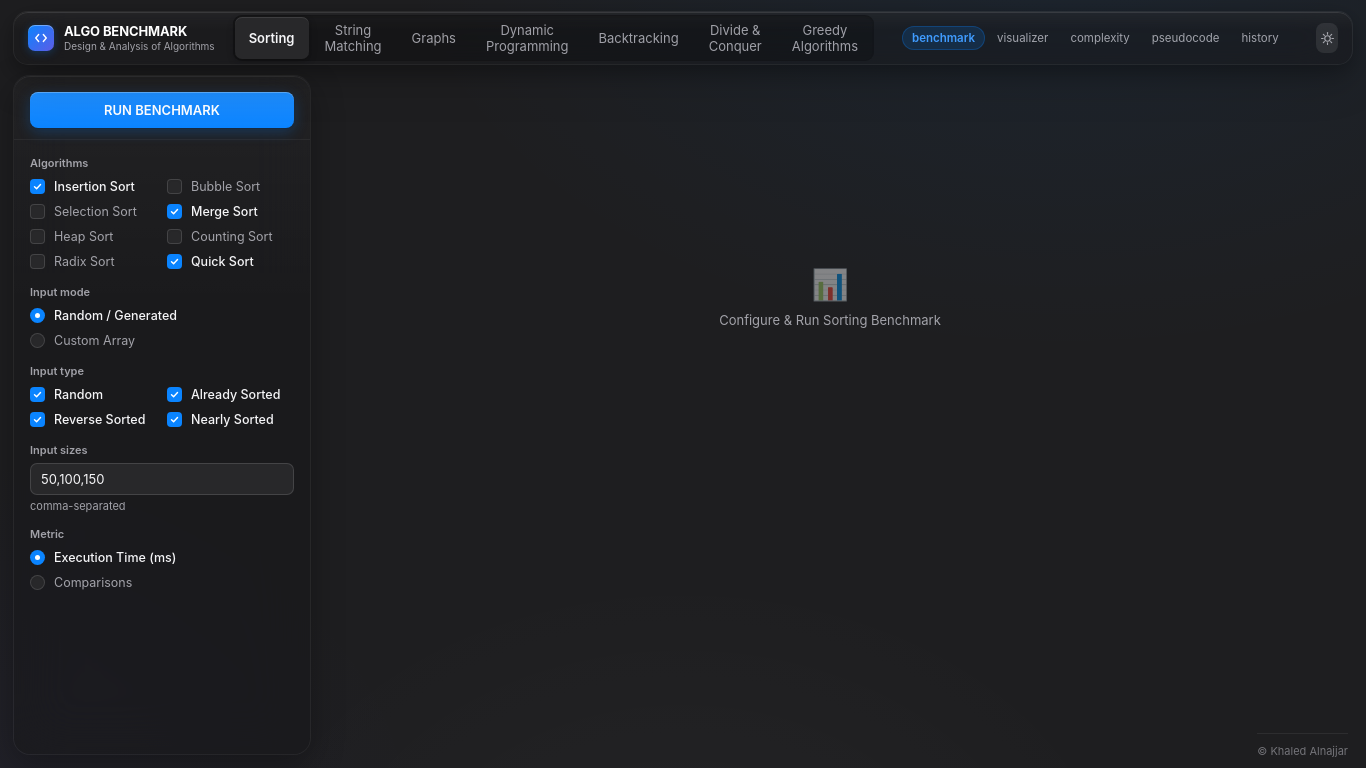
Scenario: Algo App › runs a sorting benchmark and shows results
Click the button "RUN BENCHMARK" at (162, 110), box [30,92,294,128]
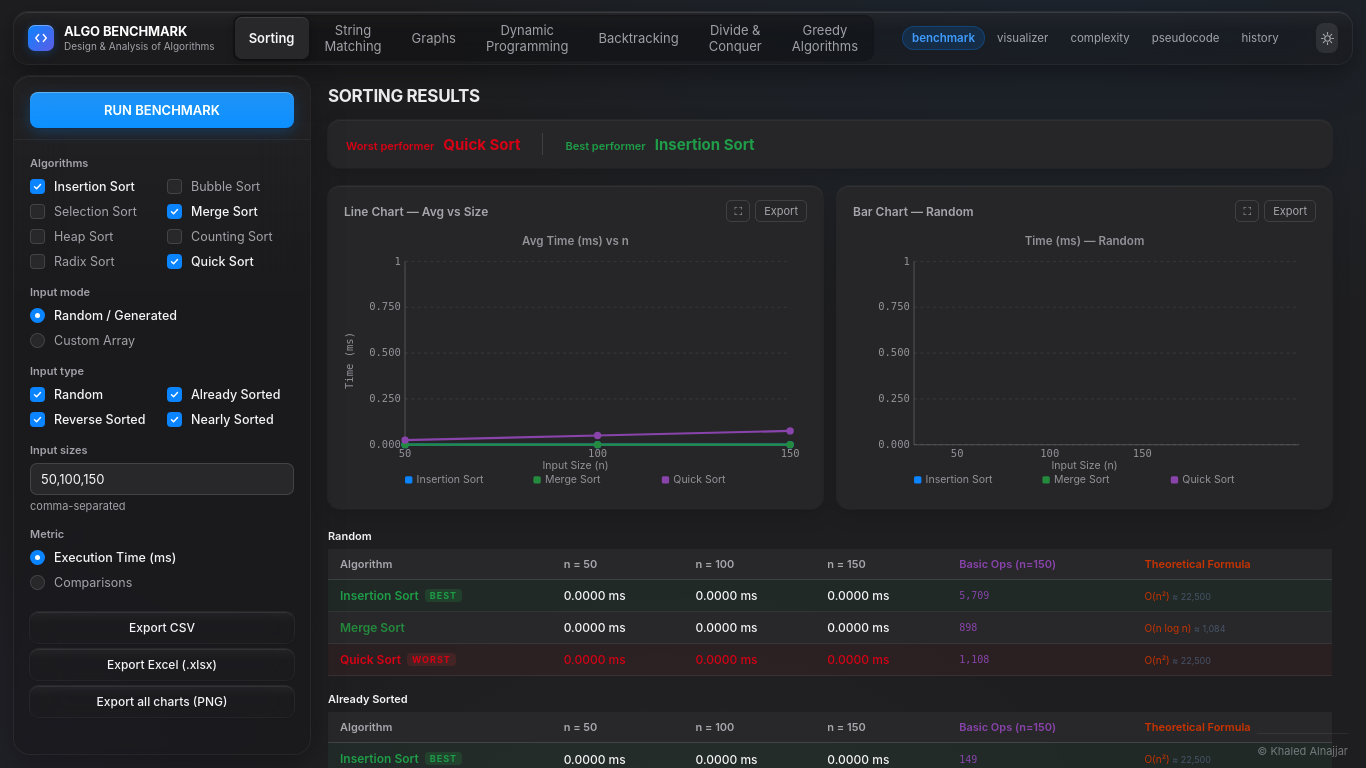
Expected: the text "Insertion Sort" is shown, [30,178,135,194]
Expected: the text "SORTING RESULTS" is shown, [328,86,480,106]
